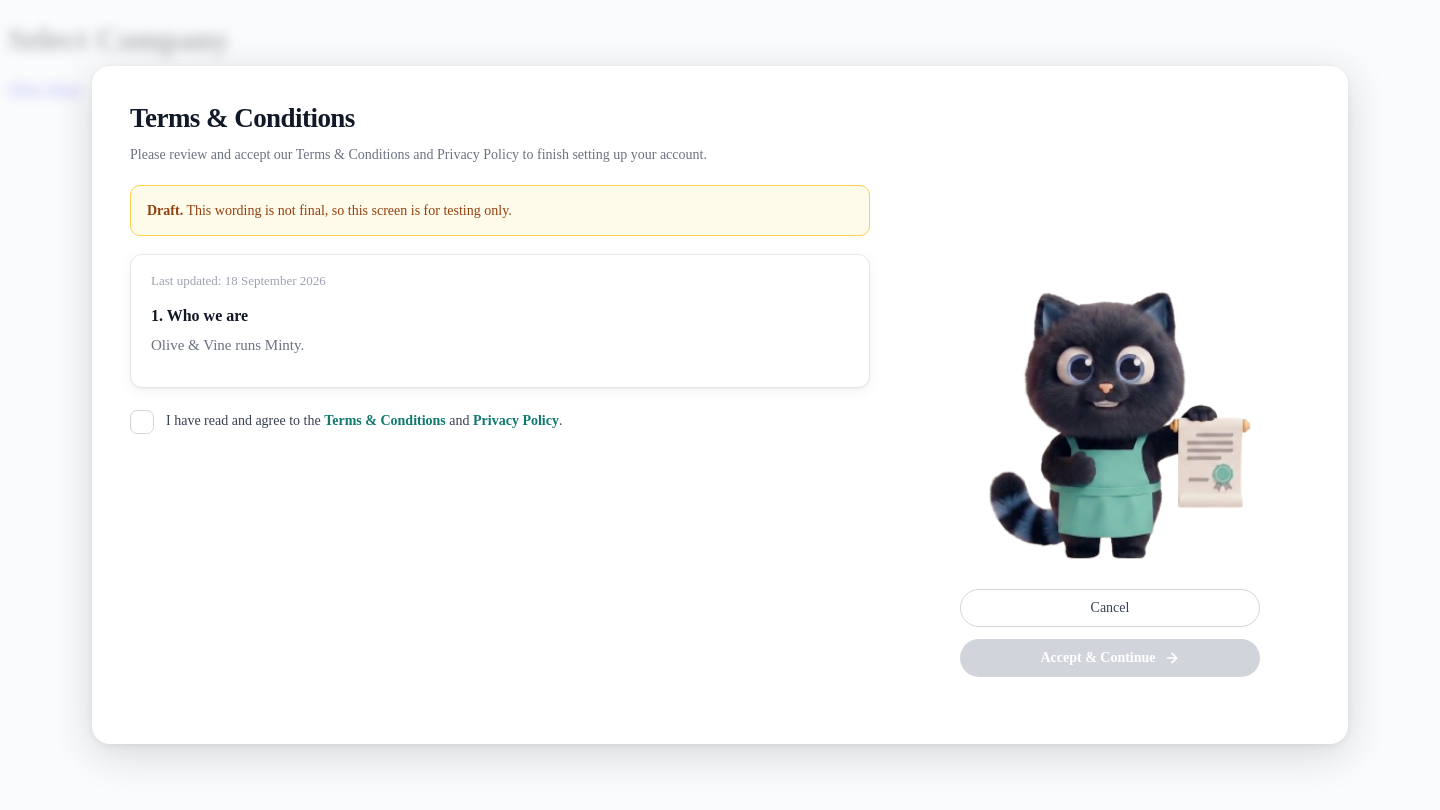
Scenario: TermsGate › Accept & Continue: once ticked, it records the version AND the fingerprint on screen
The width and height of the screenshot is (1440, 810).
Click the checkbox.
click(142, 422)  # box [130,410,154,434]
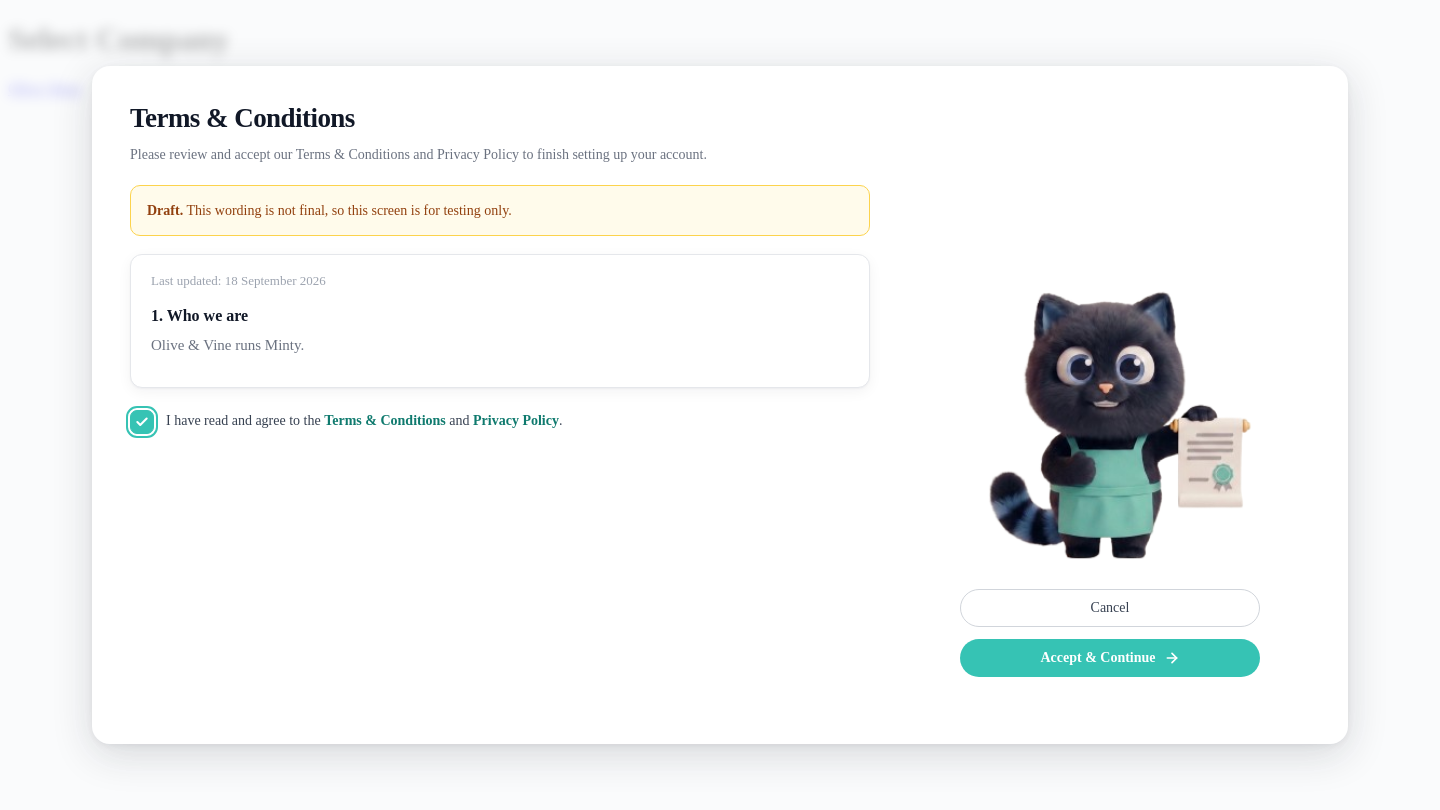
Result: the button "Accept & Continue" is enabled
Click the button "Accept & Continue".
click(1110, 658)  # box [960,639,1260,677]
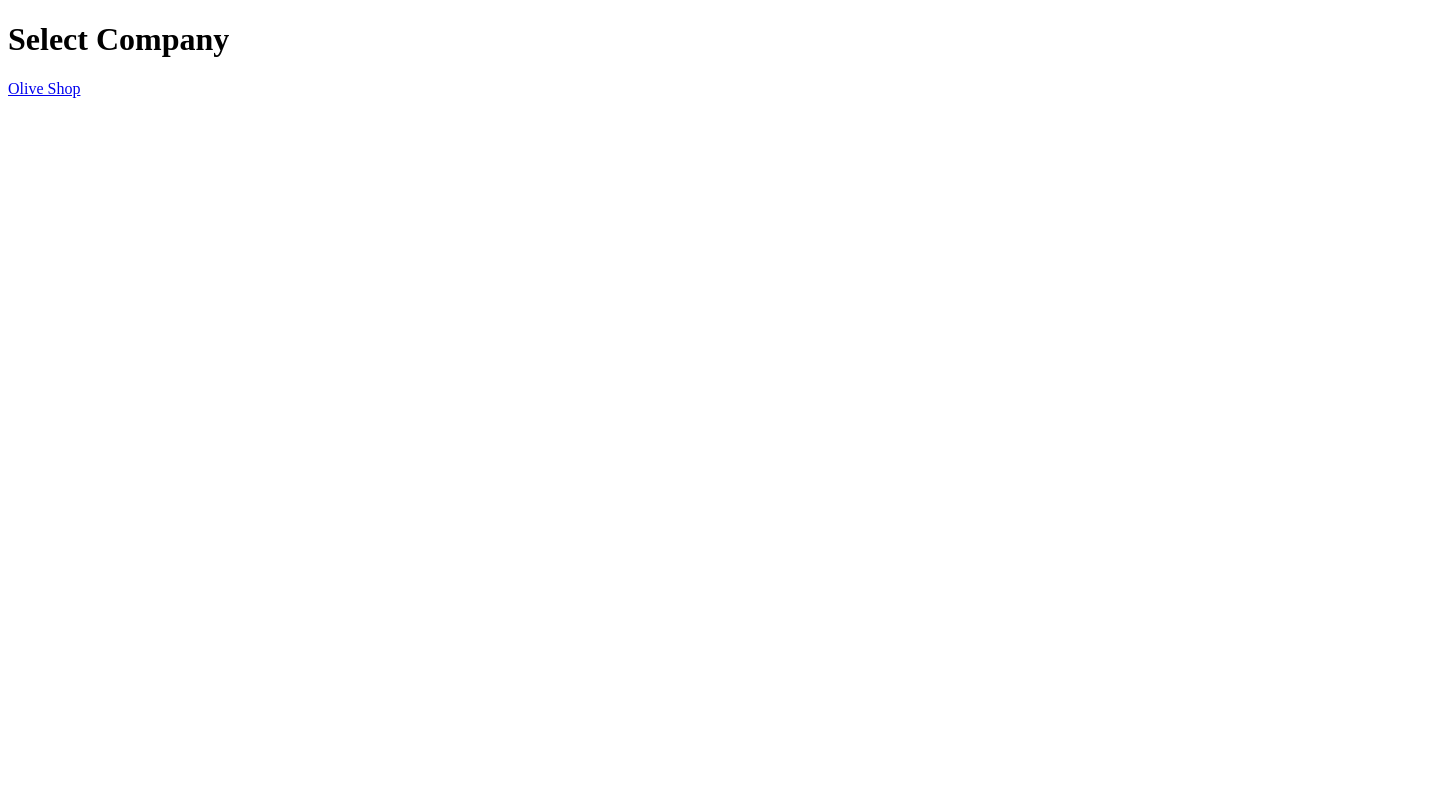
Expected: the heading "Select Company" is shown, [8,21,229,57]
Result: the dialog is gone
